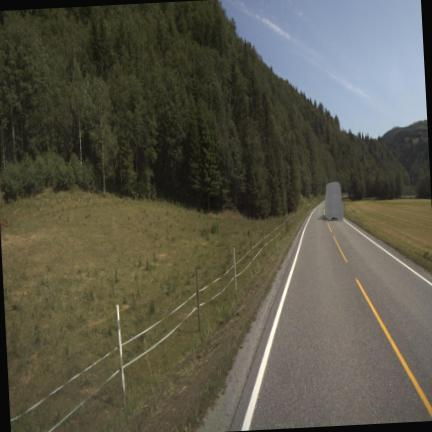Road: (228, 204, 431, 429)
